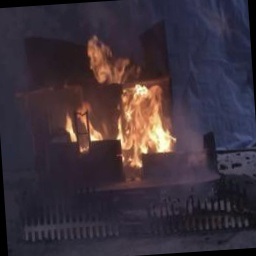fire: (73, 31, 176, 173)
